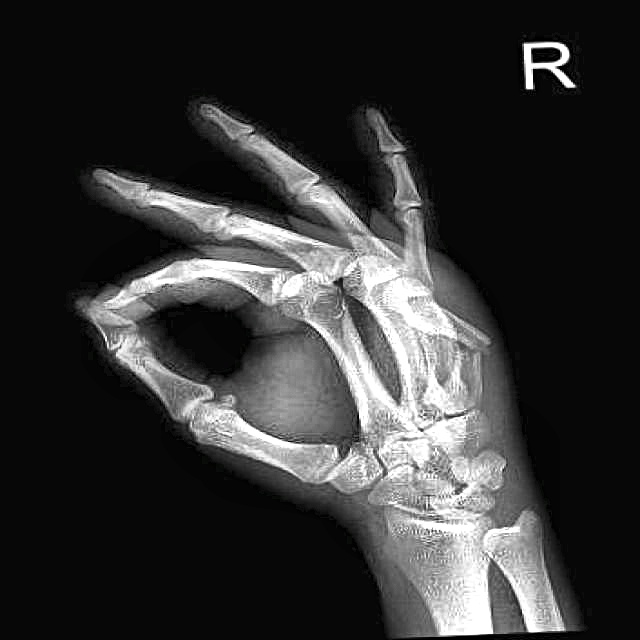Oblique: (390, 292, 505, 403)
